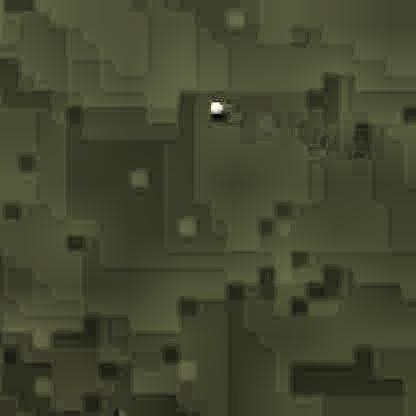golfball: (208, 99, 222, 115)
